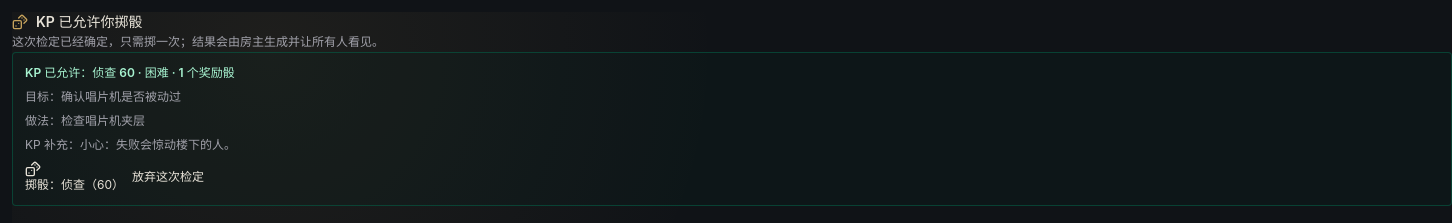
Test: immersive V2 investigation workspace › keeps the roll locked through the relay round-trip and ignores a second click
Later steps or results of the test are not shown.
Click the button "掷骰：侦查（60）": (74, 177) [25, 161, 124, 193]
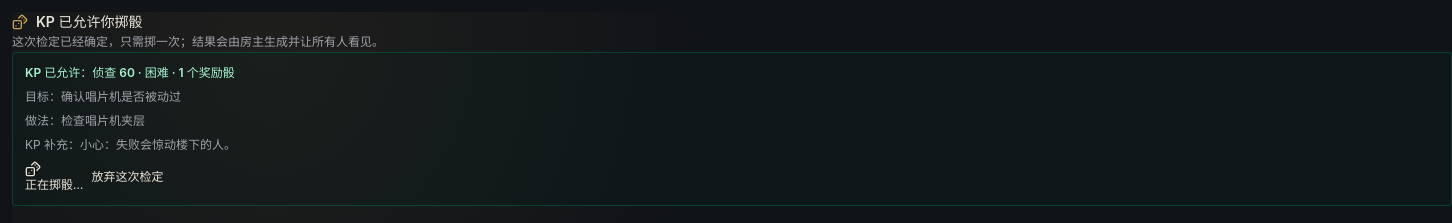
Click the button named "掷骰：侦查（60）": (54, 177) [25, 161, 83, 193]
Check: the button "放弃这次检定" is disabled, box [91, 161, 163, 193]
Check: the button "正在掷骰…" is disabled, box [25, 161, 83, 193]
